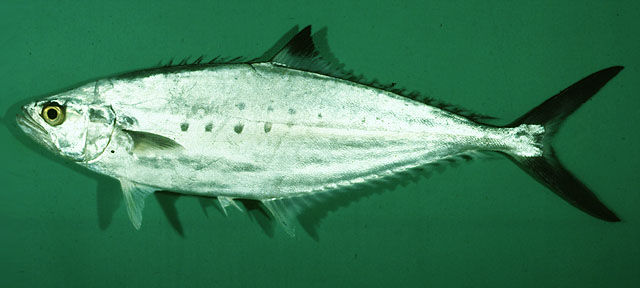fish: (13, 24, 626, 241)
